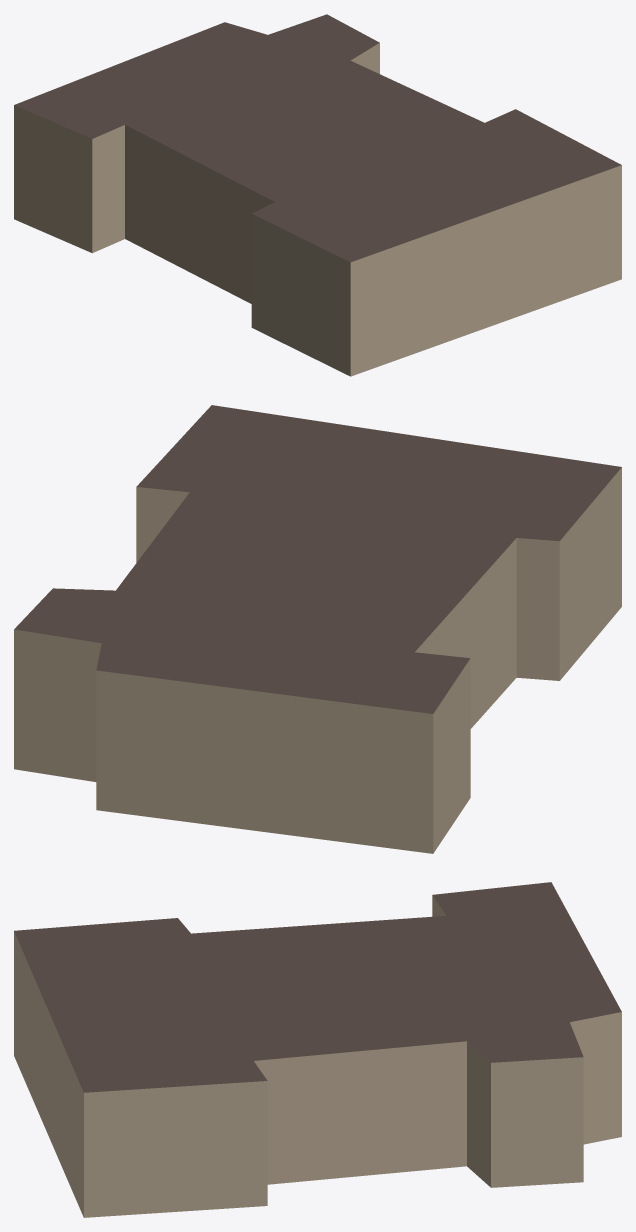
3 renders of one model, top to bottom at view 1: azimuth 30°, elevation 25°; view 2: azimuth 150°, elevation 25°; view 3: azimuth 270°, elevation 25°, orthographic. The views are drawn at different scales.
Visible parts, largest first — view 1: HP-w1512359821; view 2: HP-w1512359821; view 3: HP-w1512359821.
Boxes of the visible parts, left/top/right/bottom form: HP-w1512359821: left=14, top=14, right=621, bottom=376; HP-w1512359821: left=14, top=405, right=621, bottom=853; HP-w1512359821: left=14, top=882, right=621, bottom=1217.
Bounding box in the file's own units: 32.52 × 9 × 39.65.
